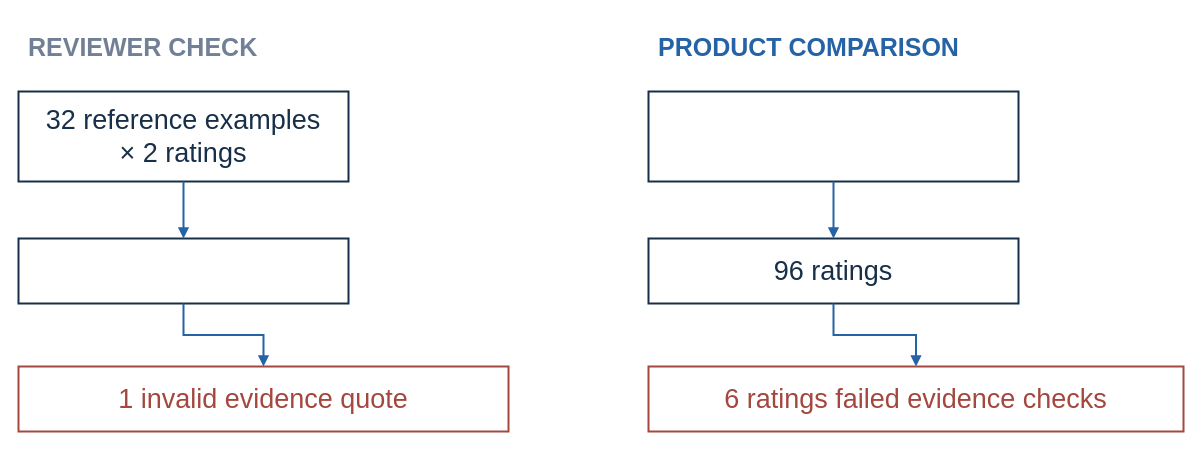
This 1201x449 diagram has some shape labels left out. The centre of each missing label's shape, as x and y in pixels:
"48 Digital Twin replies × 2 ratings" goes at pixel 833 136.
"64 ratings" goes at pixel 183 270.
